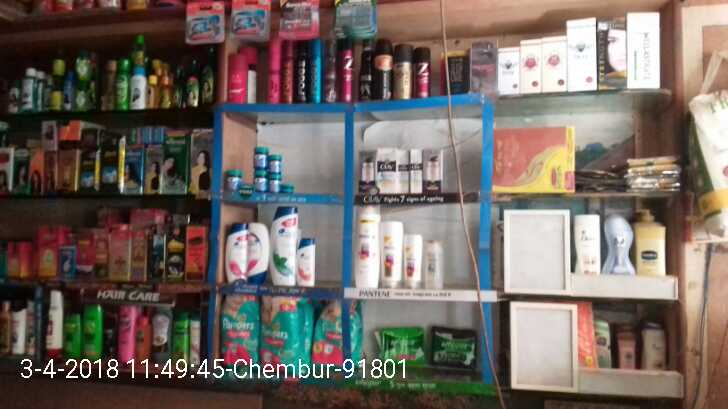vicks: (225, 140, 294, 194)
